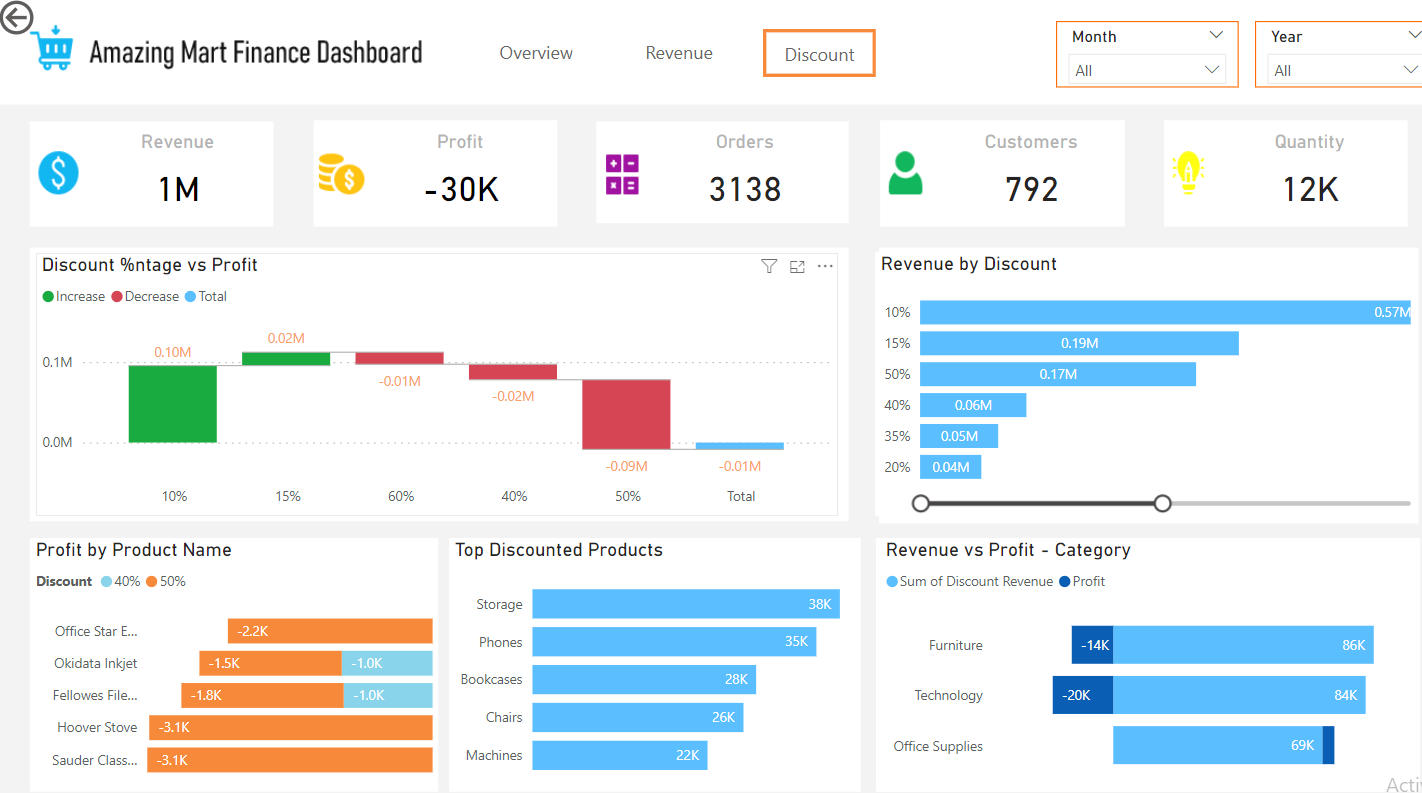

The dashboard page shown, as its layout file describes it:
{"tool":"powerbi","page":{"name":"Discount Impact","canvas":[1280,720],"ordinal":2},"visuals":[{"type":"hundredPercentStackedBarChart","title":"Profit by Ship Mode","fields":{"Series":["OrderBreakdown.Discount"],"Y":["OrderBreakdown.Total Profit"],"Category":["ListOfOrders.Ship Mode"]},"box":[782.2,481.6,478.9,225],"z":1000},{"type":"barChart","title":"Top Discounted Products","fields":{"Y":["Sum(OrderBreakdown.Discount $)"],"Category":["OrderBreakdown.Sub-Category"]},"box":[403.4,481.6,365,225],"z":2000},{"type":"actionButton","box":[556.7,30.4,101.2,41.9],"z":3000},{"type":"actionButton","box":[682,30.2,100.2,42.5],"z":4000},{"type":"actionButton","box":[430.9,30.4,99.8,41.9],"z":5000},{"type":"waterfallChart","title":"Revenue vs Profit - Category","fields":{"Category":["OrderBreakdown.Category"],"Y":["Sum(OrderBreakdown.Discount Revenue)"]},"box":[785.4,481.8,478.9,225.2],"z":6000},{"type":"actionButton","box":[0,0,100,40],"z":7000},{"type":"waterfallChart","title":"Discount %ntage vs Profit","fields":{"Category":["OrderBreakdown.Discount"],"Y":["Sum(OrderBreakdown.Profit)"]},"box":[37.6,228.4,710.7,233.8],"z":8000},{"type":"barChart","title":"Revenue by Discount","fields":{"Category":["OrderBreakdown.Discount"],"Y":["Sum(OrderBreakdown.Discount Revenue)"]},"box":[781.1,228.1,480.4,233.8],"z":9000},{"type":"lineChart","title":"Daily orders","fields":{"Y":["ListOfOrders.Orders"],"Category":["ListOfOrders.Order Date.Variation.Date Hierarchy.Day"]},"box":[32,482,371,225],"z":10000},{"type":"stackedAreaChart","fields":{"Category":["ListOfOrders.Order Date.Variation.Date Hierarchy.Year","ListOfOrders.Order Date.Variation.Date Hierarchy.Month"],"Y":["OrderBreakdown.Profit"]},"box":[315.6,134.5,175.6,78.2],"z":11000},{"type":"stackedAreaChart","fields":{"Category":["ListOfOrders.Order Date.Variation.Date Hierarchy.Year","ListOfOrders.Order Date.Variation.Date Hierarchy.Month"],"Y":["OrderBreakdown.Revenue"]},"box":[70,134.5,175.6,78.2],"z":12000},{"type":"stackedAreaChart","fields":{"Category":["ListOfOrders.Order Date.Variation.Date Hierarchy.Year","ListOfOrders.Order Date.Variation.Date Hierarchy.Month"],"Y":["ListOfOrders.Orders"]},"box":[572.2,134.5,175.6,78.2],"z":13000},{"type":"stackedAreaChart","fields":{"Category":["ListOfOrders.Order Date.Variation.Date Hierarchy.Year","ListOfOrders.Order Date.Variation.Date Hierarchy.Month"],"Y":["ListOfOrders.Customers"]},"box":[822,133.1,175.6,78.2],"z":14000},{"type":"stackedAreaChart","fields":{"Category":["ListOfOrders.Order Date.Variation.Date Hierarchy.Year","ListOfOrders.Order Date.Variation.Date Hierarchy.Month"],"Y":["Sum(OrderBreakdown.Quantity)"]},"box":[1085.4,134.5,175.6,78.2],"z":15000},{"type":"cardVisual","fields":{"Data":["OrderBreakdown.Revenue"]},"box":[77.4,106.2,175.6,101.5],"z":16000},{"type":"cardVisual","fields":{"Data":["Sum(OrderBreakdown.Quantity)"]},"box":[1070.9,106.2,175.6,101.5],"z":17000},{"type":"cardVisual","fields":{"Data":["ListOfOrders.Customers"]},"box":[845.3,105.7,175.6,101.5],"z":18000},{"type":"cardVisual","fields":{"Data":["ListOfOrders.Orders"]},"box":[572.2,101.5,175.6,101.5],"z":19000},{"type":"cardVisual","fields":{"Data":["OrderBreakdown.Profit"]},"box":[315.6,101.5,175.6,101.5],"z":20000},{"type":"advancedSlicerVisual","fields":{"Values":["ListOfOrders.Order Date.Variation.Date Hierarchy.Year"]},"box":[854.4,12.8,425.6,33.7],"z":21000},{"type":"advancedSlicerVisual","fields":{"Values":["OrderBreakdown.Category"]},"box":[854.4,55.8,425.6,33.7],"z":22000}]}

Visuals, with their boxes in screenshot pixels (x1, y1, x2, y2), scaled from the page's 1280x720 canvas onto the 1422x793 screenshot:
"Profit by Ship Mode" hundredPercentStackedBarChart: bbox(869, 530, 1401, 778)
"Top Discounted Products" barChart: bbox(448, 530, 854, 778)
actionButton: bbox(618, 33, 731, 80)
actionButton: bbox(758, 33, 869, 80)
actionButton: bbox(479, 33, 590, 80)
"Revenue vs Profit - Category" waterfallChart: bbox(873, 531, 1405, 779)
actionButton: bbox(0, 0, 111, 44)
"Discount %ntage vs Profit" waterfallChart: bbox(42, 252, 831, 509)
"Revenue by Discount" barChart: bbox(868, 251, 1401, 509)
"Daily orders" lineChart: bbox(36, 531, 448, 779)
stackedAreaChart - ListOfOrders.Order Date.Variation.Date Hierarchy.Year x ListOfOrders.Order Date.Variation.Date Hierarchy.Month: bbox(351, 148, 546, 234)
stackedAreaChart - ListOfOrders.Order Date.Variation.Date Hierarchy.Year x ListOfOrders.Order Date.Variation.Date Hierarchy.Month: bbox(78, 148, 273, 234)
stackedAreaChart - ListOfOrders.Order Date.Variation.Date Hierarchy.Year x ListOfOrders.Order Date.Variation.Date Hierarchy.Month: bbox(636, 148, 831, 234)
stackedAreaChart - ListOfOrders.Order Date.Variation.Date Hierarchy.Year x ListOfOrders.Order Date.Variation.Date Hierarchy.Month: bbox(913, 147, 1108, 233)
stackedAreaChart - ListOfOrders.Order Date.Variation.Date Hierarchy.Year x ListOfOrders.Order Date.Variation.Date Hierarchy.Month: bbox(1206, 148, 1401, 234)
cardVisual - OrderBreakdown.Revenue: bbox(86, 117, 281, 229)
cardVisual - Sum(OrderBreakdown.Quantity): bbox(1190, 117, 1385, 229)
cardVisual - ListOfOrders.Customers: bbox(939, 116, 1134, 228)
cardVisual - ListOfOrders.Orders: bbox(636, 112, 831, 224)
cardVisual - OrderBreakdown.Profit: bbox(351, 112, 546, 224)
advancedSlicerVisual - ListOfOrders.Order Date.Variation.Date Hierarchy.Year: bbox(949, 14, 1421, 51)
advancedSlicerVisual - OrderBreakdown.Category: bbox(949, 61, 1421, 99)
